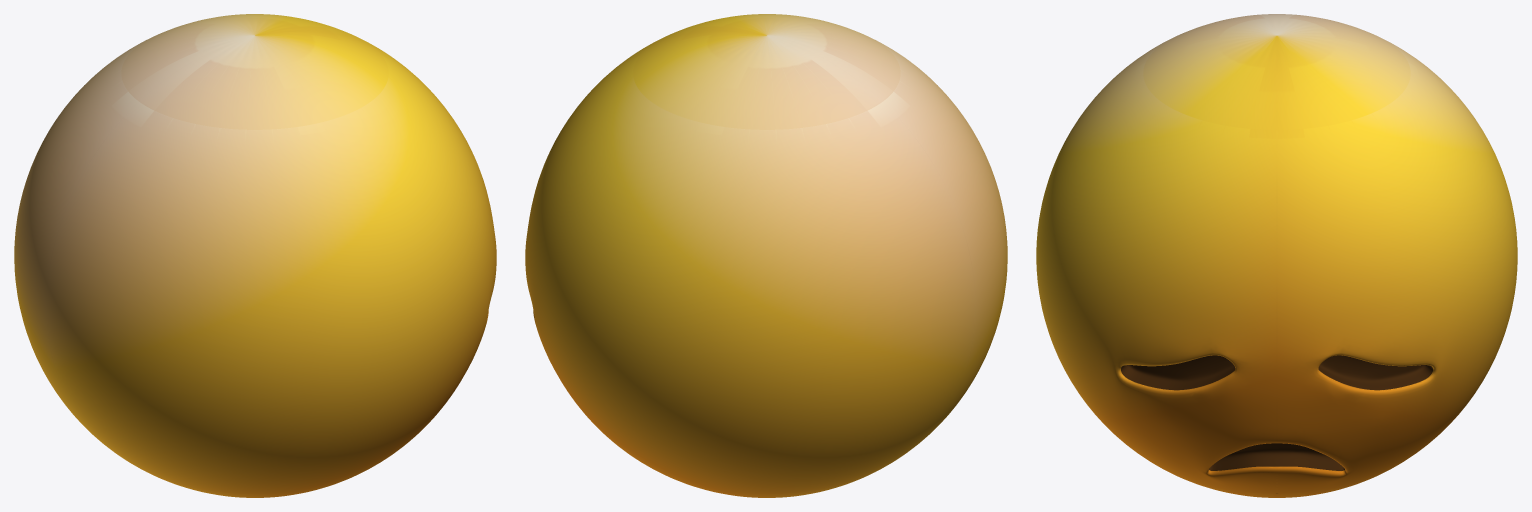
File: emoji_tired_cartoon.glb
3 views of the same model, side by side, from view 1: azimuth 30°, elevation 25°; view 2: azimuth 150°, elevation 25°; view 3: azimuth 270°, elevation 25° (orthographic).
Visible parts, largest first — view 1: Sphere.013_0; view 2: Sphere.013_0; view 3: Sphere.013_0.
Part boxes in pixels (box(x1,y1,x2,y2)): Sphere.013_0: box(14, 14, 496, 497); Sphere.013_0: box(525, 14, 1007, 497); Sphere.013_0: box(1036, 14, 1517, 497).
Size of the model in its own units: 1.98 by 2 by 1.97.
Materials: 2 (1 with a texture image).
